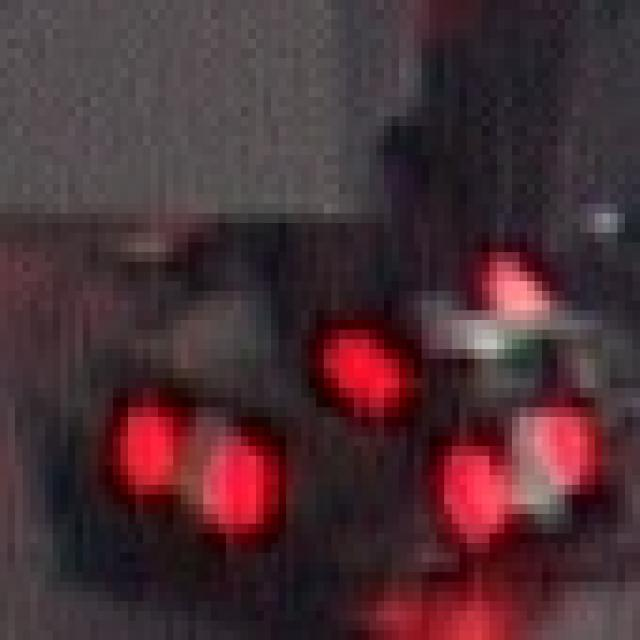R4: (444, 388, 595, 533)
